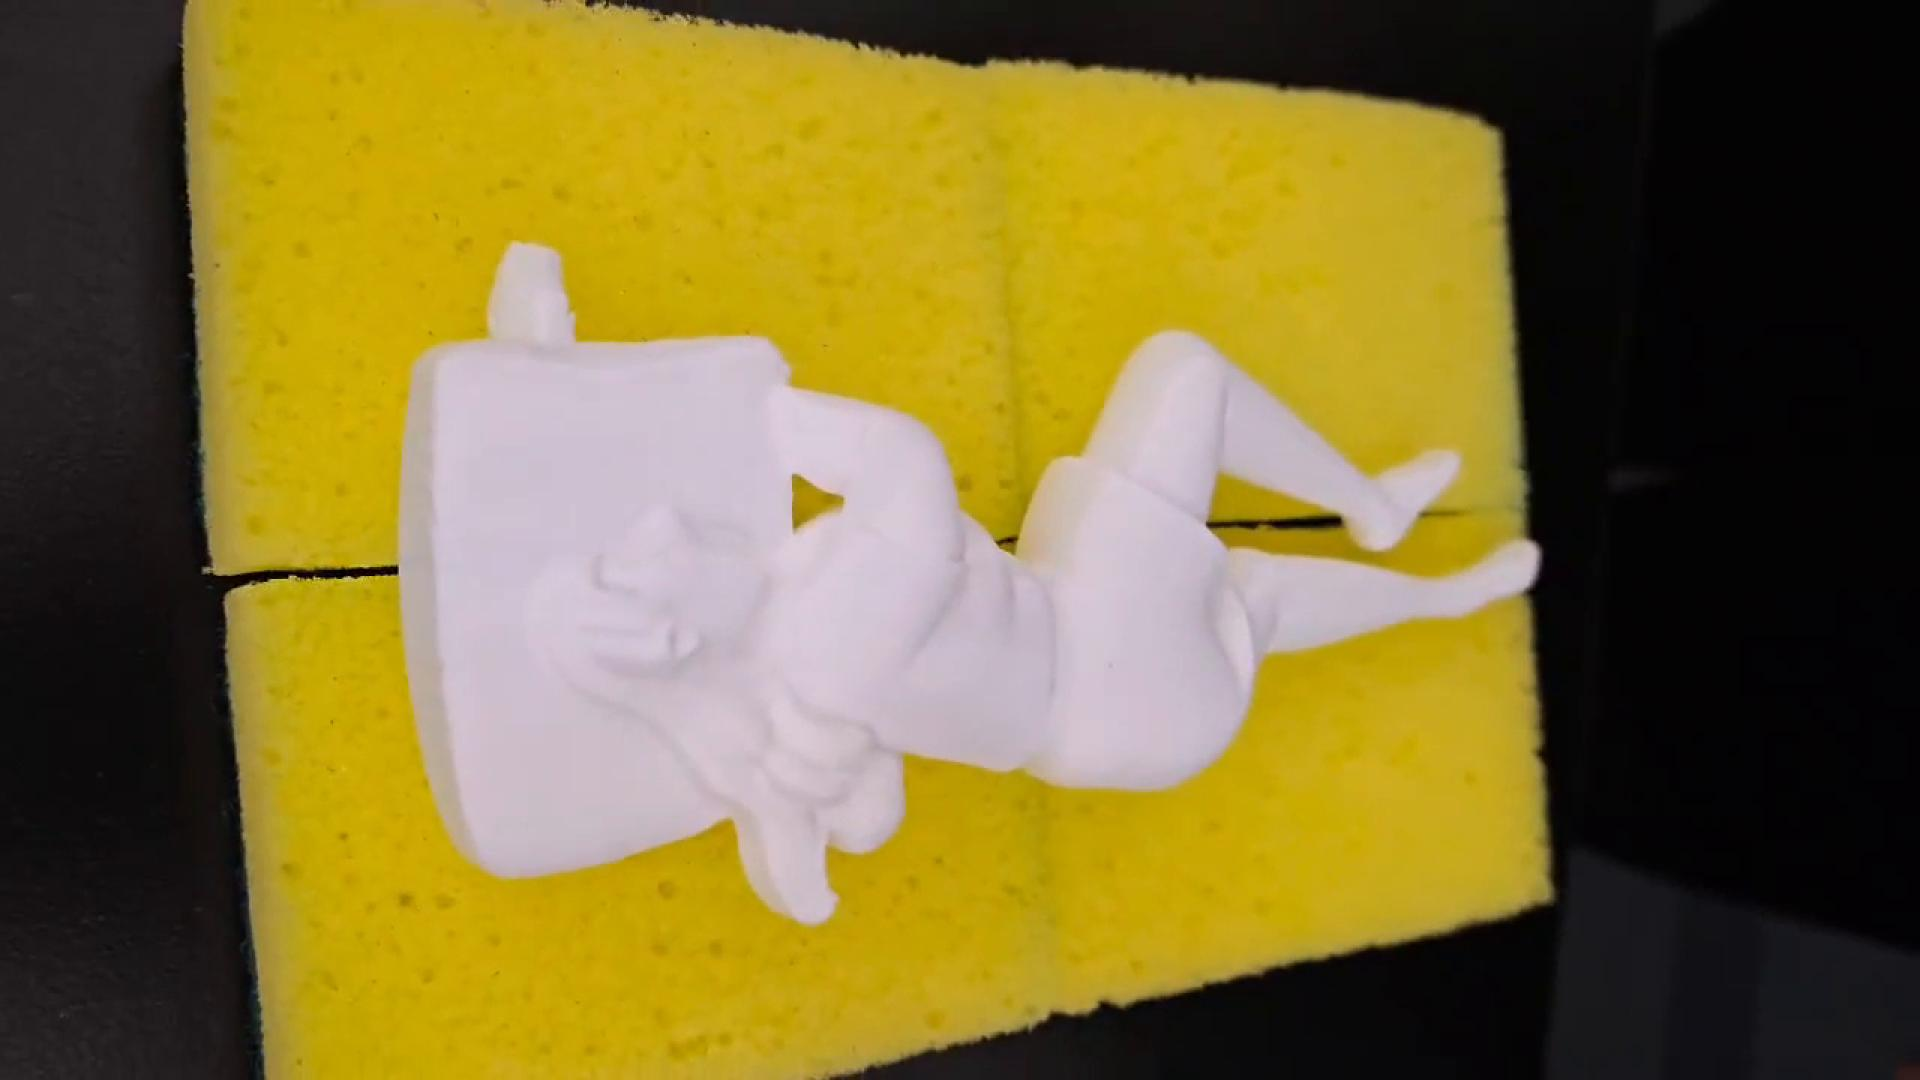Good-style: (324, 203, 1590, 930)
